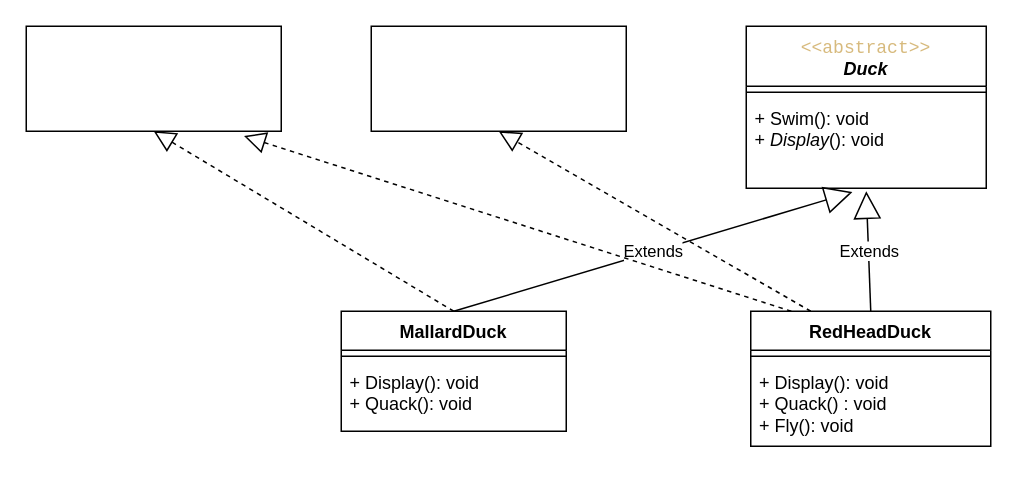
Image size: 1017x477. Some labels were removed from this diagram. Here are the shapes that lost their labels. From the top down, the centre of each, then its label:
At pixel 153 78: "<<Interface>> IQuackable + Quack (): Vpid".
At pixel 498 78: "<<Interface>> IFlyable + Fly (): Void".
